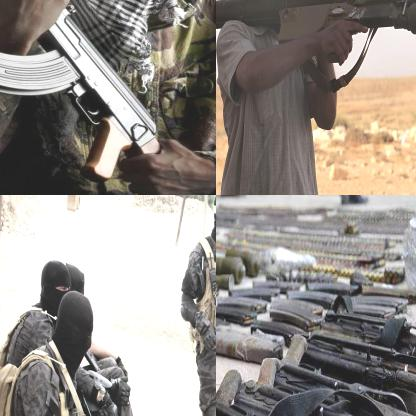rifle: (0, 0, 215, 194), (216, 0, 415, 57), (275, 328, 415, 408), (216, 369, 403, 415)
